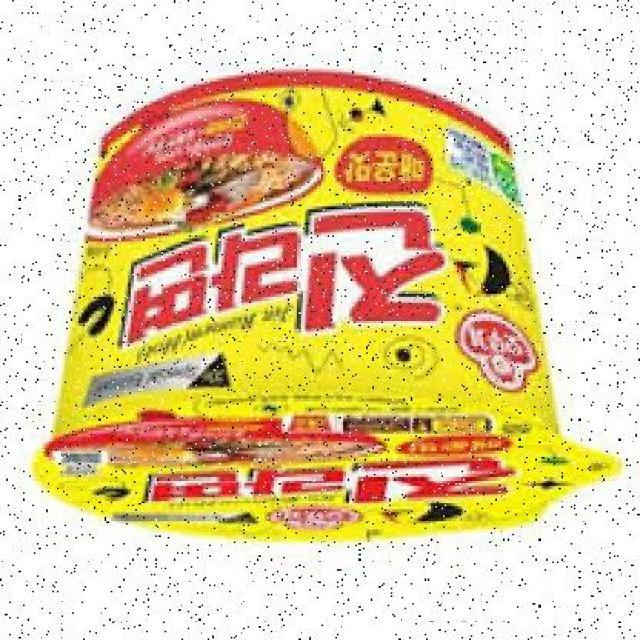Miscellaneous: (44, 78, 592, 544)
